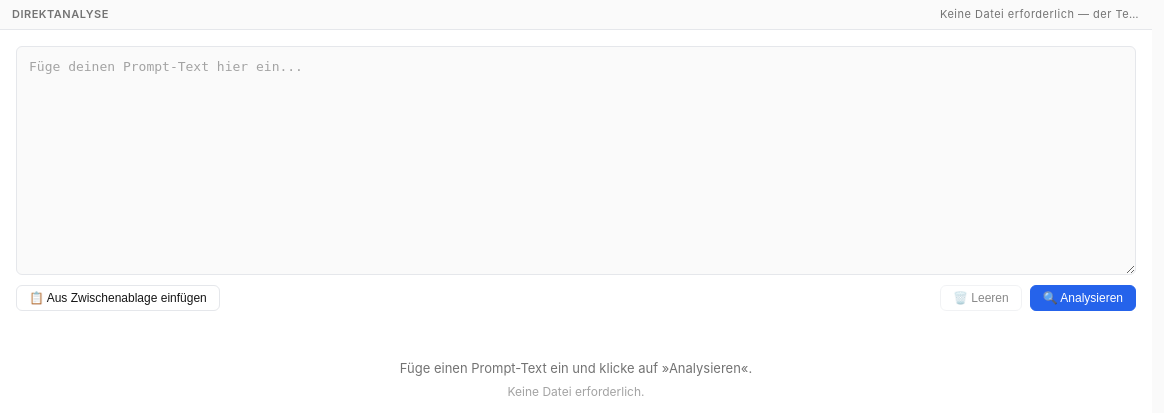
Scenario: PastePromptAnalyzer › fills textarea on successful clipboard read
Click the button "📋 Aus Zwischenablage einfügen" at (118, 298), box top-left (16, 286), bottom-right (220, 312)
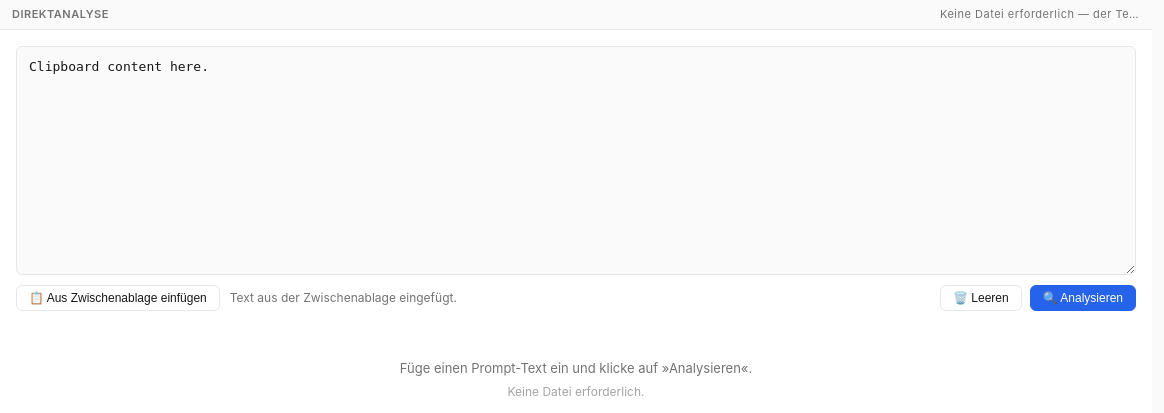
Result: the text box with placeholder "Füge deinen Prompt-Text hier ein..." holds "Clipboard content here." at top-left (16, 46), bottom-right (1136, 276)
